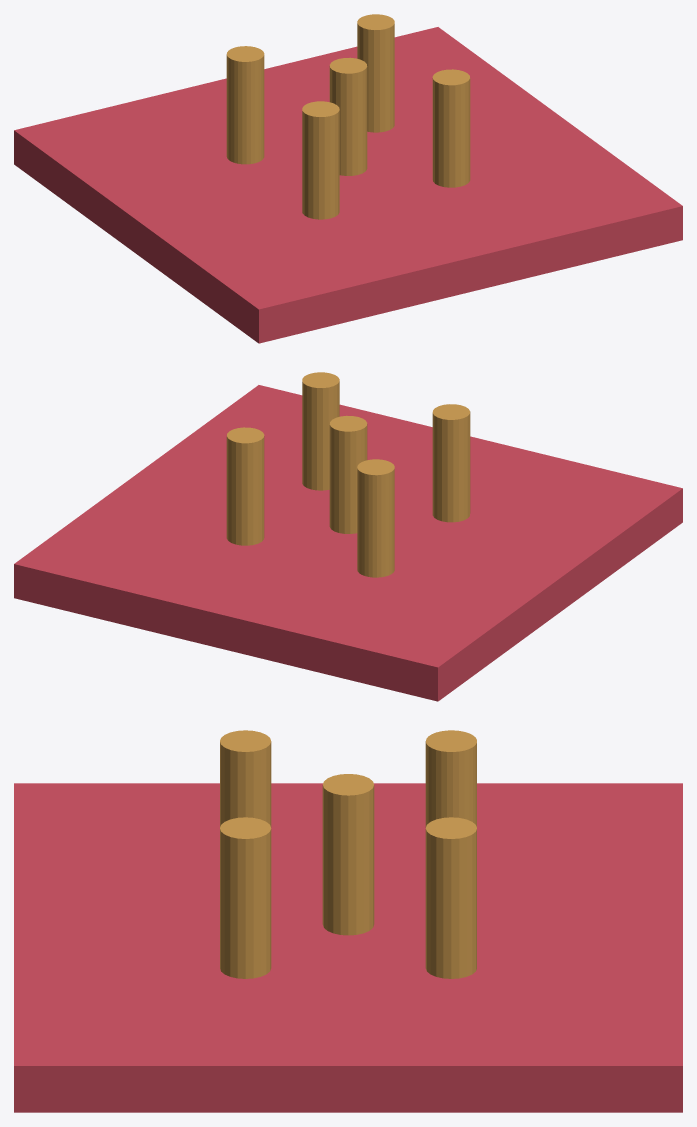
Rendered from Learning the Moves.glb.
3 views of the same model, one above another, from view 1: azimuth 30°, elevation 25°; view 2: azimuth 150°, elevation 25°; view 3: azimuth 270°, elevation 25° (orthographic). The views are drawn at different scales.
Visible parts, largest first — view 1: Mesh_Mesh_head_geo.001_lambert2SG.001; view 2: Mesh_Mesh_head_geo.001_lambert2SG.001; view 3: Mesh_Mesh_head_geo.001_lambert2SG.001.
Part boxes in pixels (box(x1,y1,x2,y2)): Mesh_Mesh_head_geo.001_lambert2SG.001: box(14, 14, 682, 343); Mesh_Mesh_head_geo.001_lambert2SG.001: box(14, 372, 682, 701); Mesh_Mesh_head_geo.001_lambert2SG.001: box(14, 730, 682, 1112).
Bounding box in the file's own units: 13 × 4 × 13.
